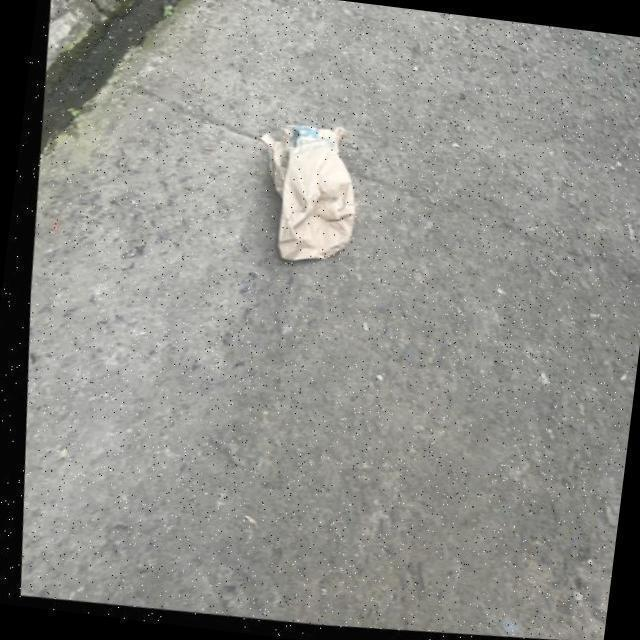Paper_Bag: (240, 114, 370, 279)
